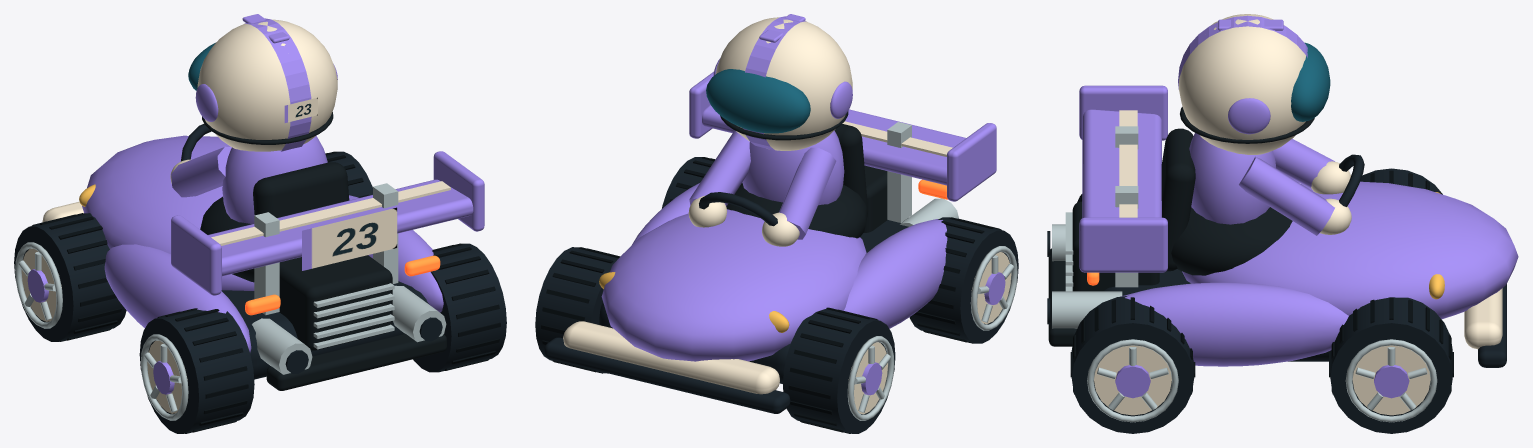
File: kart-2.glb
3 views of the same model, side by side, from view 1: azimuth 30°, elevation 25°; view 2: azimuth 150°, elevation 25°; view 3: azimuth 270°, elevation 25° (orthographic). The views are drawn at different scales.
Visible parts, largest first — view 1: Painted racing shell, rubber, Carbon seats and engine recesses, ivory, metal, Tire grooves, Driver racing number, Rear amber lenses; view 2: Painted racing shell, rubber, ivory, Carbon seats and engine recesses, metal, glass, Tire grooves, gold; view 3: Painted racing shell, ivory, rubber, Carbon seats and engine recesses, metal, Tire grooves, glass.
Part boxes in pixels (x1,y1,x2,y2): Painted racing shell: [27, 14, 484, 394]; rubber: [14, 124, 506, 433]; Carbon seats and engine recesses: [200, 112, 446, 390]; ivory: [21, 19, 450, 413]; metal: [15, 183, 446, 420]; Tire grooves: [32, 151, 500, 433]; Driver racing number: [284, 97, 397, 270]; Rear amber lenses: [245, 255, 440, 315]; Painted racing shell: [601, 14, 1005, 395]; rubber: [535, 157, 1018, 433]; ivory: [563, 17, 1011, 414]; Carbon seats and engine recesses: [720, 111, 907, 238]; metal: [847, 122, 1017, 420]; glass: [706, 69, 810, 133]; Tire grooves: [541, 157, 1001, 433]; gold: [599, 272, 789, 332]; Painted racing shell: [1079, 15, 1518, 398]; ivory: [1094, 14, 1502, 415]; rubber: [1047, 154, 1506, 433]; Carbon seats and engine recesses: [1048, 107, 1314, 346]; metal: [1052, 126, 1437, 422]; Tire grooves: [1070, 170, 1453, 394]; glass: [1291, 42, 1330, 121].
Size of the model in its own units: 2.51 by 2.43 by 3.08.
10 materials, 1 textured.
